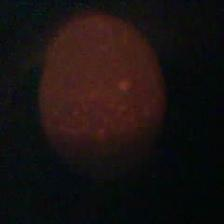fertile: (34, 12, 166, 175)
